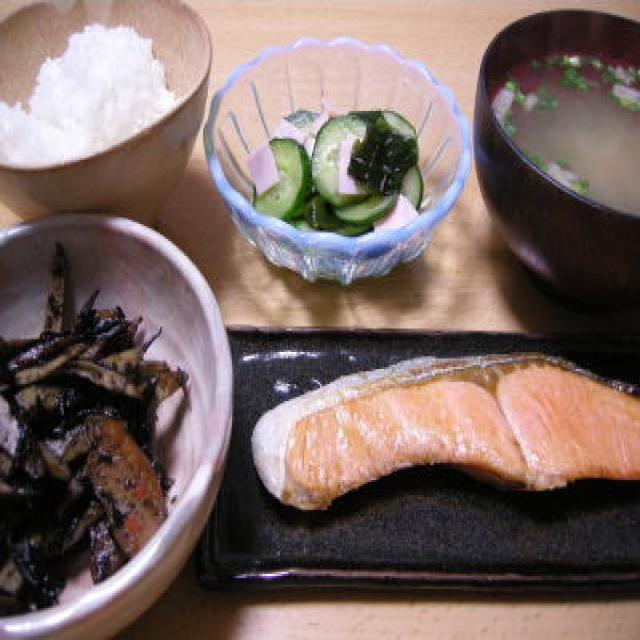熟制海鲜: (235, 324, 640, 502)
